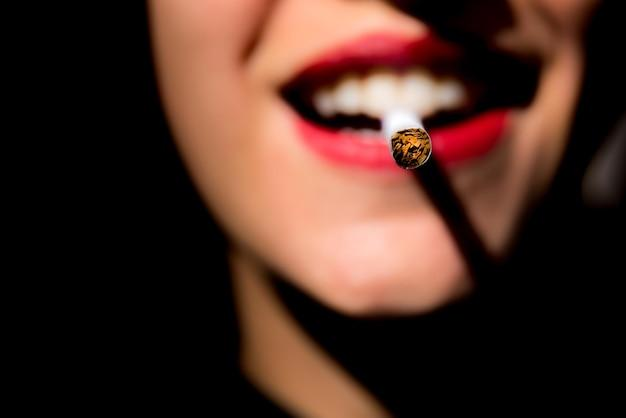cigarette: (381, 108, 431, 168)
